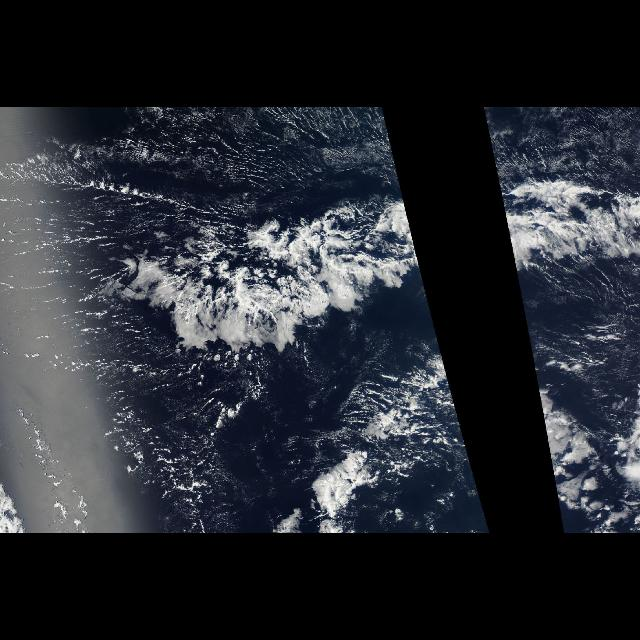Fish: (116, 182, 437, 354), (498, 182, 636, 324)
Gravel: (6, 112, 350, 225)
Sugar: (10, 340, 334, 518)
